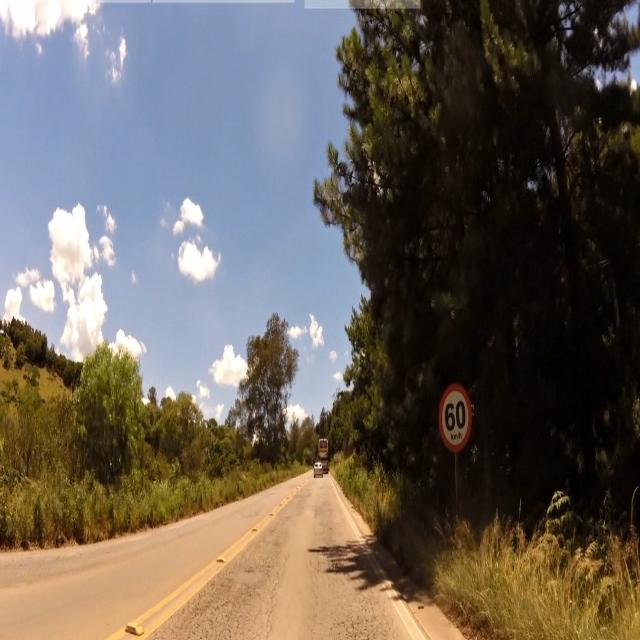R-19: (437, 382, 472, 456)
